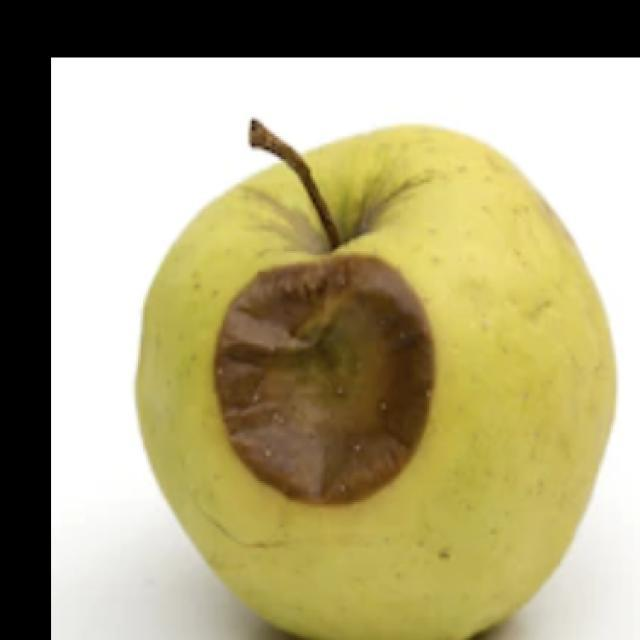Rotten: (136, 124, 640, 640)
